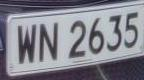2: (66, 16, 89, 64)
3: (106, 13, 123, 54)
5: (122, 10, 141, 52)
6: (86, 14, 107, 60)
N: (38, 18, 62, 68)
W: (15, 20, 39, 69)
